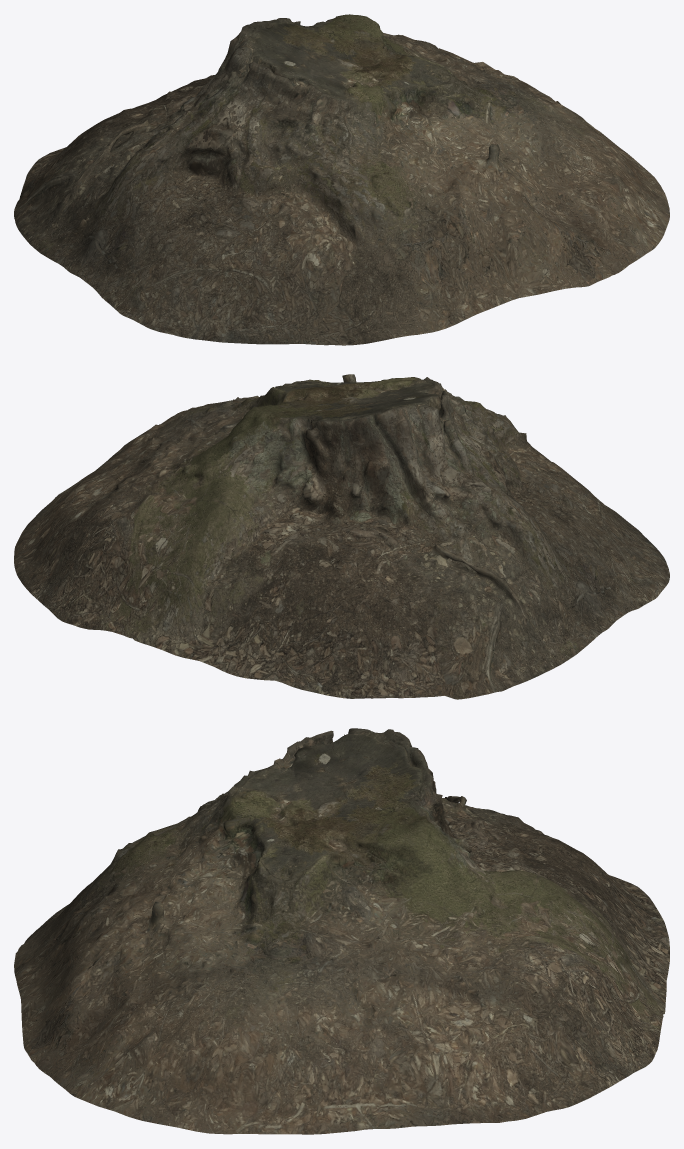
File: B_Stump_02.fbx
3 renders of one model, top to bottom at view 1: azimuth 30°, elevation 25°; view 2: azimuth 150°, elevation 25°; view 3: azimuth 270°, elevation 25°, orthographic. The views are drawn at different scales.
Visible parts, largest first — view 1: B_Stump_02_LOD0; view 2: B_Stump_02_LOD0; view 3: B_Stump_02_LOD0.
Boxes of the visible parts, x1=… form: B_Stump_02_LOD0: x1=14, y1=14, x2=669, y2=345; B_Stump_02_LOD0: x1=14, y1=374, x2=669, y2=699; B_Stump_02_LOD0: x1=14, y1=728, x2=669, y2=1134.
Size of what is drawn, in the model's own units: 2 by 0.6872 by 1.83.
